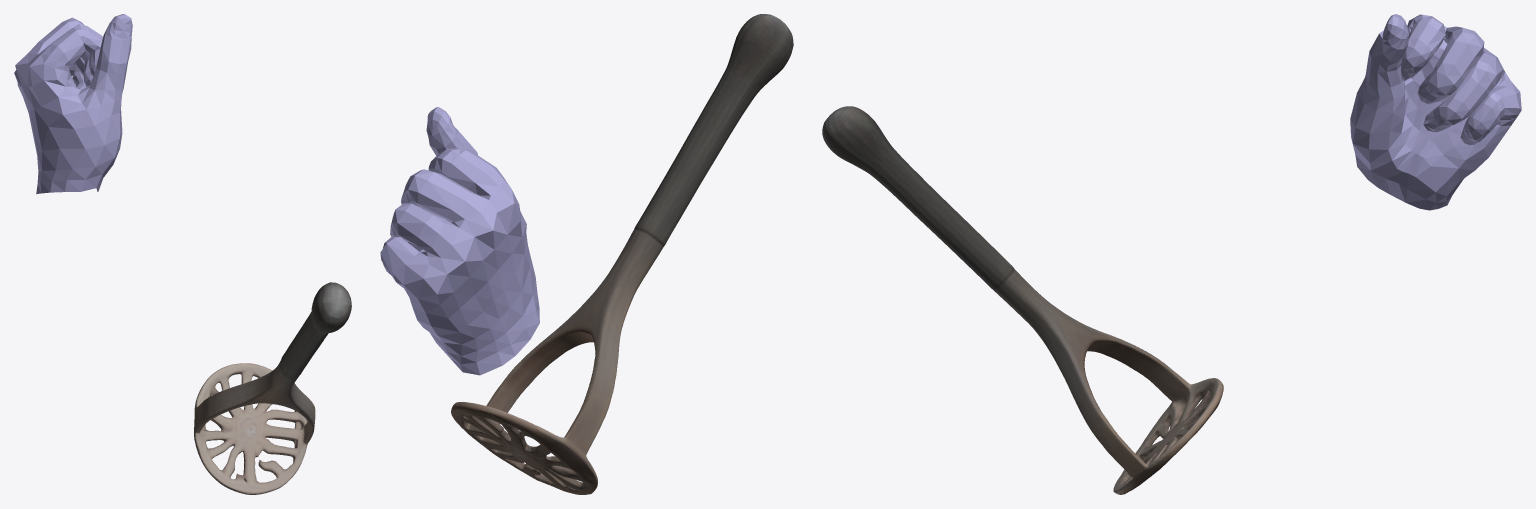
The model's file is frame_0028_source_000028_hand_object.glb.
The picture shows the model from 3 angles, left to right: view 1: azimuth 30°, elevation 25°; view 2: azimuth 150°, elevation 25°; view 3: azimuth 270°, elevation 25°; orthographic projection. The views are drawn at different scales.
Visible parts, largest first — view 1: world; view 2: world; view 3: world.
Part boxes in pixels (x1,y1,x2,y2): world: [14, 14, 351, 494]; world: [380, 14, 793, 494]; world: [822, 14, 1521, 494].
Size of the model in its own units: 0.1135 by 0.2687 by 0.3698.
